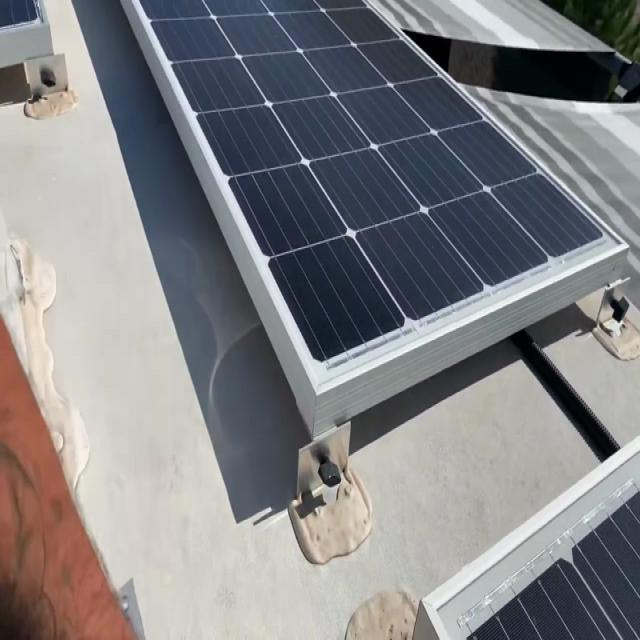Normal Solar Panel: (140, 0, 630, 398), (418, 438, 640, 640)
